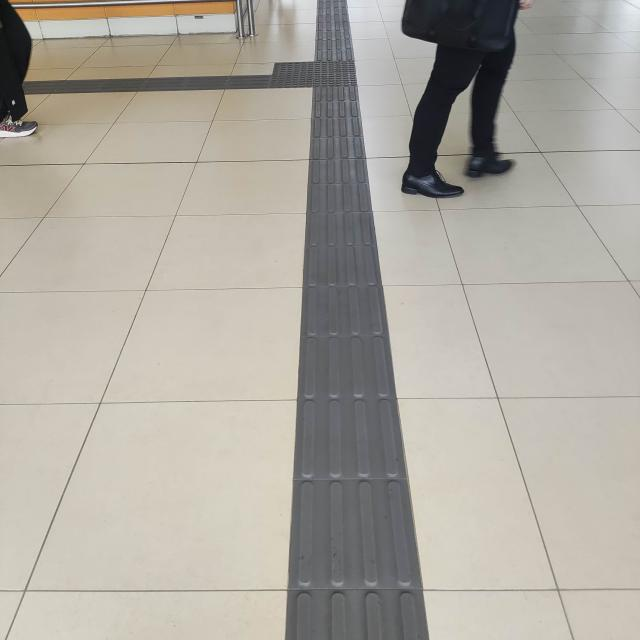lurus: (284, 96, 423, 640)
